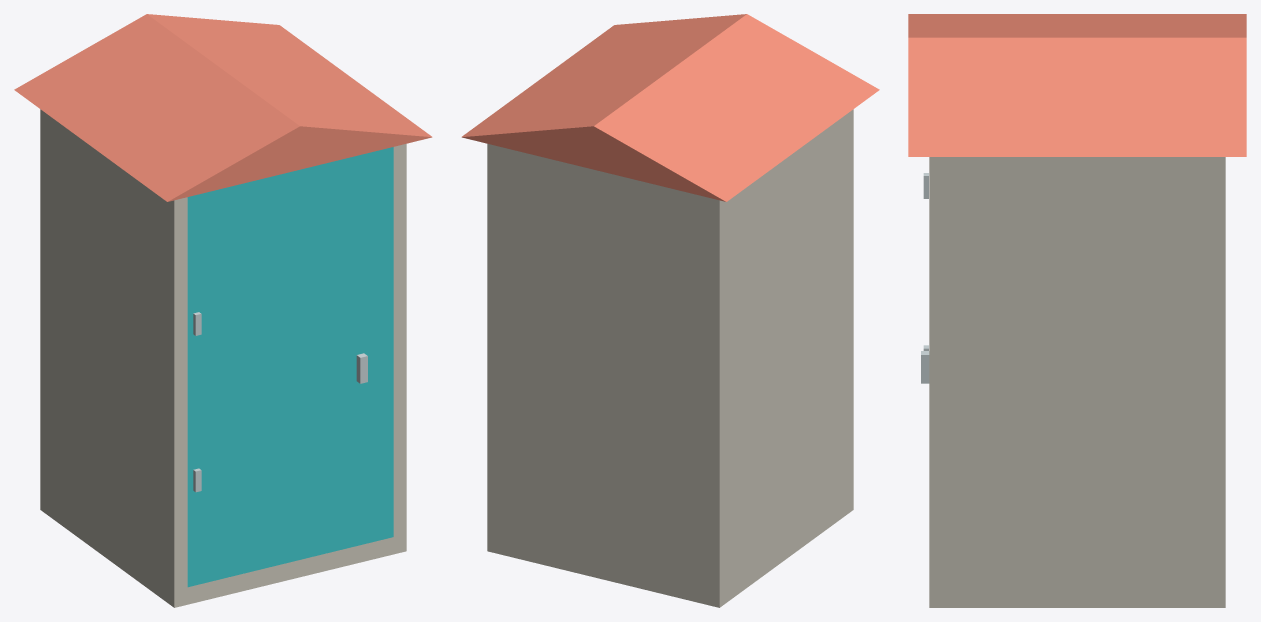
The model's file is waterpark-and-pool-operations-waterpark-and-pool-opera-dfca458e__28973.glb.
3 views of the same model, side by side, from view 1: azimuth 30°, elevation 25°; view 2: azimuth 150°, elevation 25°; view 3: azimuth 270°, elevation 25° (orthographic). The views are drawn at different scales.
Visible parts, largest first — view 1: waterpark-and-pool-operations-changing-cabin; view 2: waterpark-and-pool-operations-changing-cabin; view 3: waterpark-and-pool-operations-changing-cabin.
Boxes of the visible parts, <box> form: waterpark-and-pool-operations-changing-cabin: <box>14,14,432,607</box>; waterpark-and-pool-operations-changing-cabin: <box>461,14,879,607</box>; waterpark-and-pool-operations-changing-cabin: <box>908,14,1246,607</box>.
Bounding box in the file's own units: 1.6 × 2.65 × 1.6.
